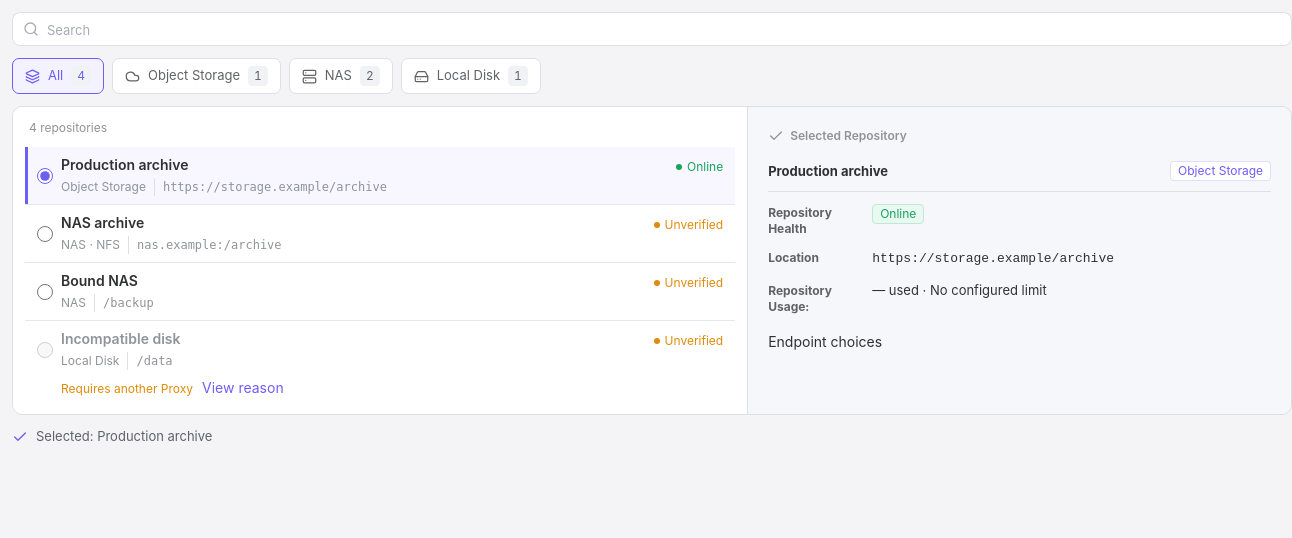
Test: TargetRepositoryPicker › allows inspecting disabled reasons without changing the selection or showing its endpoint options
Check: the radio button labelled "Incompatible disk Unverified Local Disk /data" is disabled, box [37,342,53,358]
Click the button "View reason".
click(243, 388)  # box [199,378,287,398]
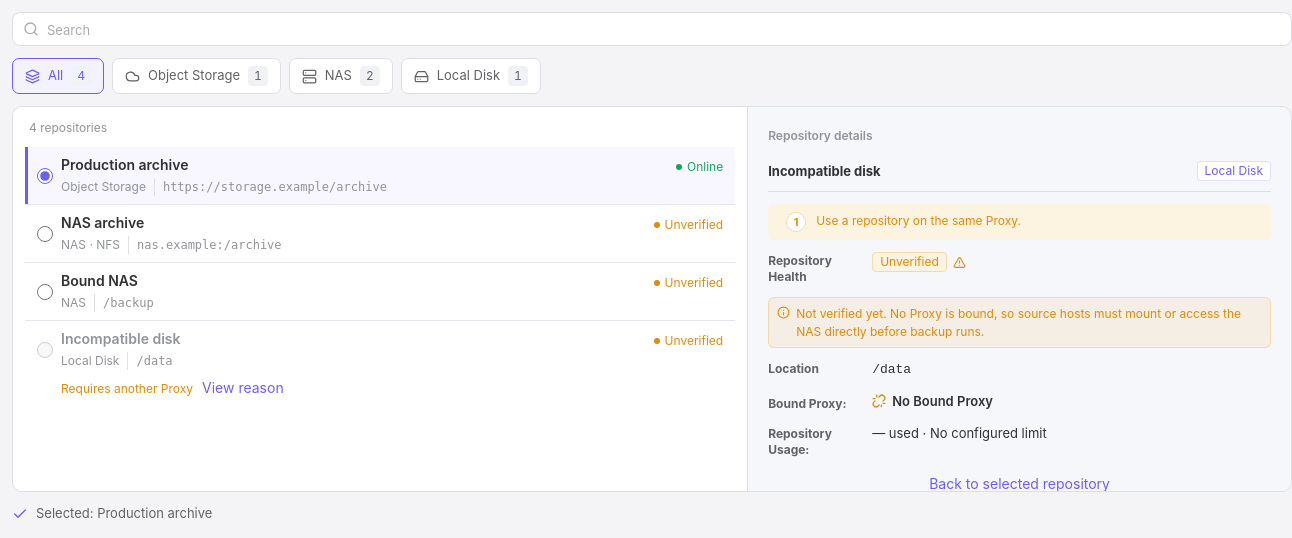
Check: the message with class "target-repository-picker__summary" shows "Production archive", box [36,505,212,521]
Check: the element with class "target-repository-picker__detail" shows "Use a repository on the same Proxy.", box [816,213,1021,228]
Click the button "Back to selected repository".
click(1020, 484)  # box [768,474,1271,494]
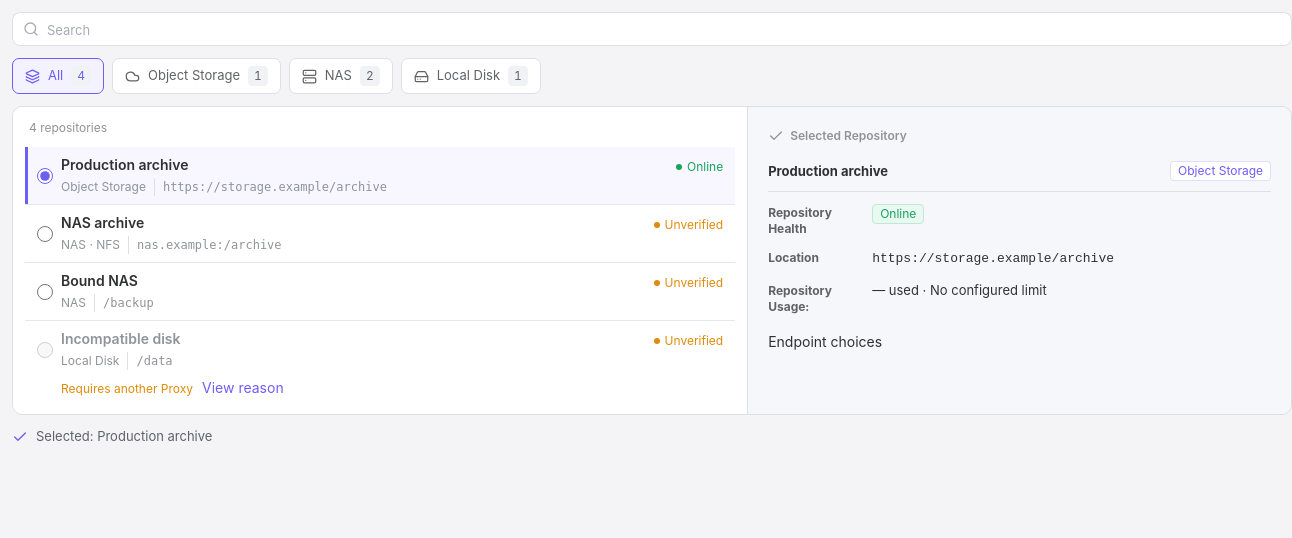
Check: the text "Endpoint choices" is shown, box [768,333,882,350]
